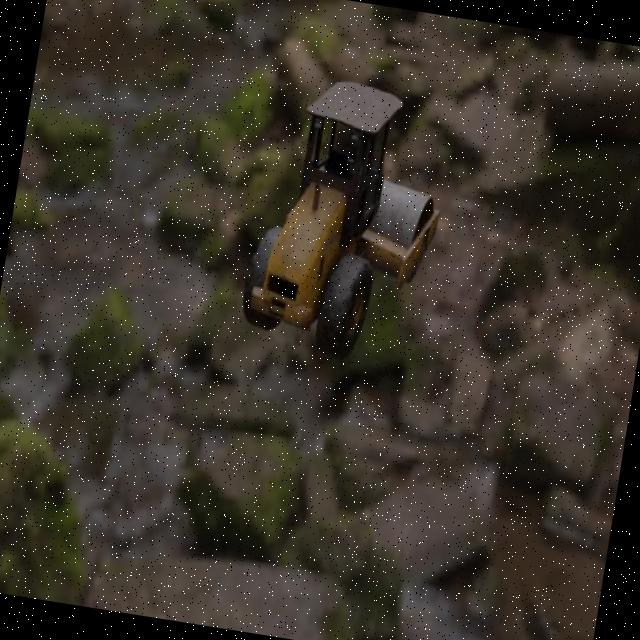Roller: (234, 71, 458, 373)
